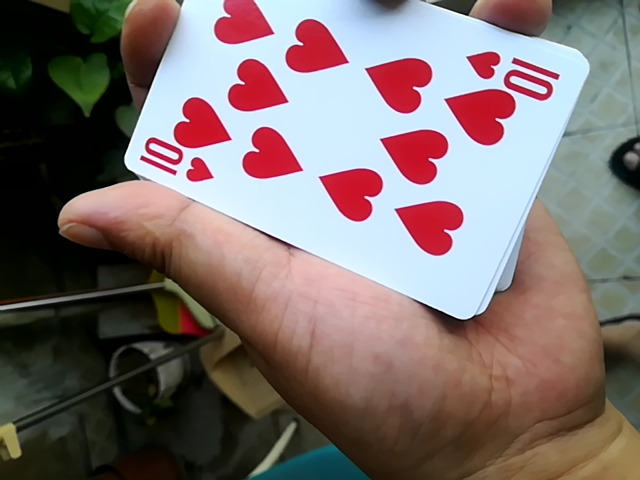hx 10: (109, 4, 597, 314)
